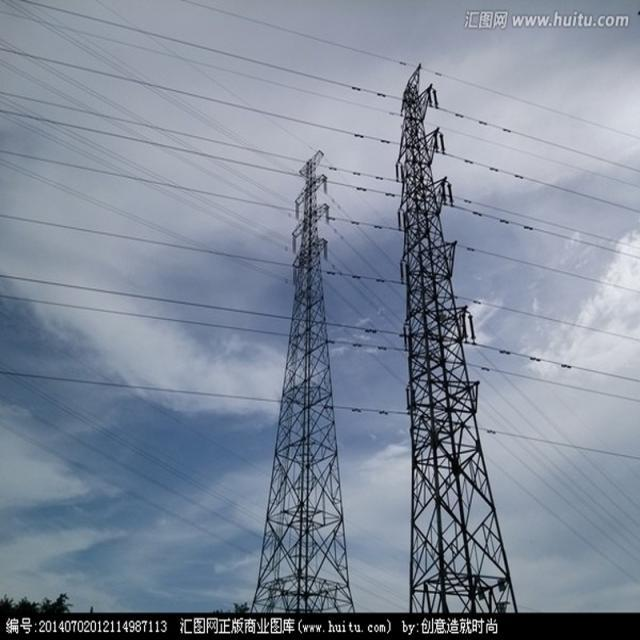non-critical vegetation: (394, 69, 518, 612), (252, 152, 358, 610)
